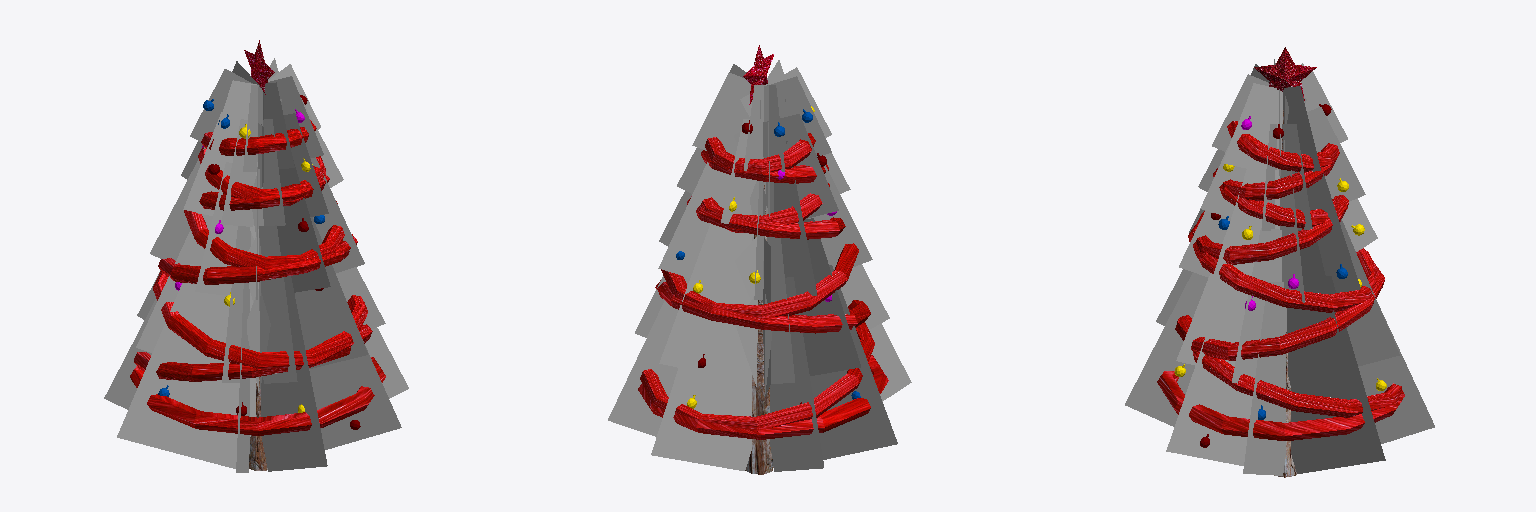
3 views of the same model, side by side, from view 1: azimuth 30°, elevation 25°; view 2: azimuth 150°, elevation 25°; view 3: azimuth 270°, elevation 25° (orthographic).
Parts seen in each view (by area): view 1: xmastree; view 2: xmastree; view 3: xmastree.
Part boxes in pixels (x1,y1,x2,y2): xmastree: (104, 40, 408, 472); xmastree: (608, 45, 911, 474); xmastree: (1125, 47, 1434, 477).
Bounding box in the file's own units: 4.75 × 7.14 × 4.74.
Materials: 8 (7 with a texture image).